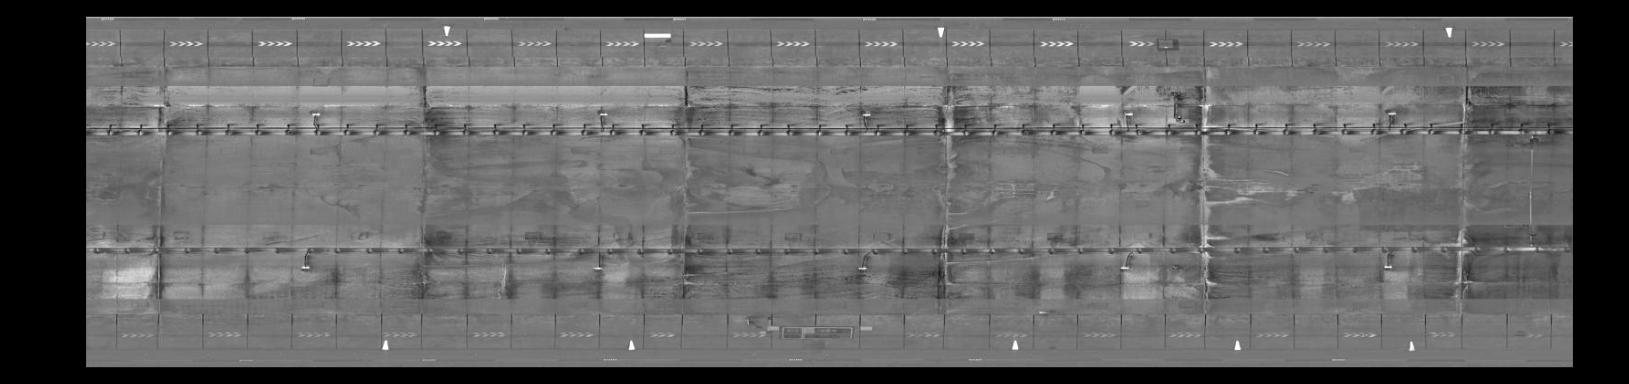light: (1373, 260, 1398, 275), (1117, 109, 1139, 120), (296, 260, 314, 274), (1114, 263, 1134, 274), (589, 263, 608, 274), (852, 264, 872, 274), (1382, 108, 1399, 119), (857, 109, 873, 120), (308, 110, 326, 119), (595, 109, 613, 118)
